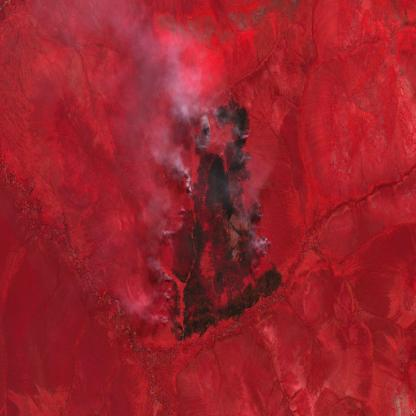fire: (164, 93, 272, 329)
